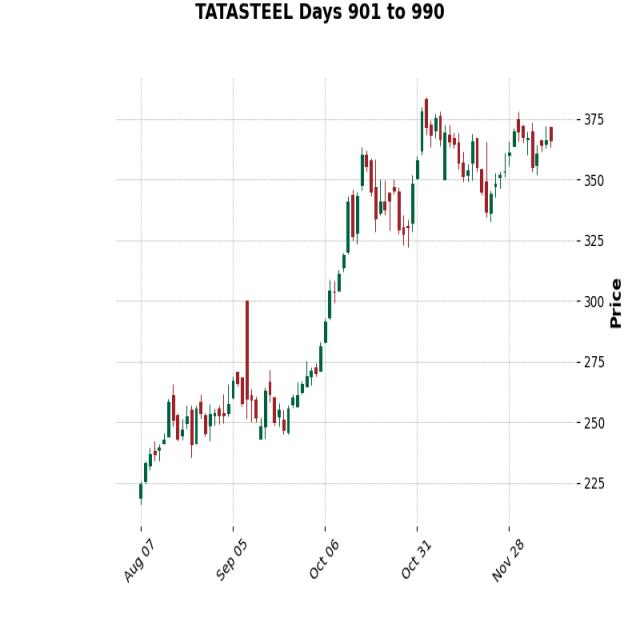Ascending Triangle: (411, 90, 551, 227)
